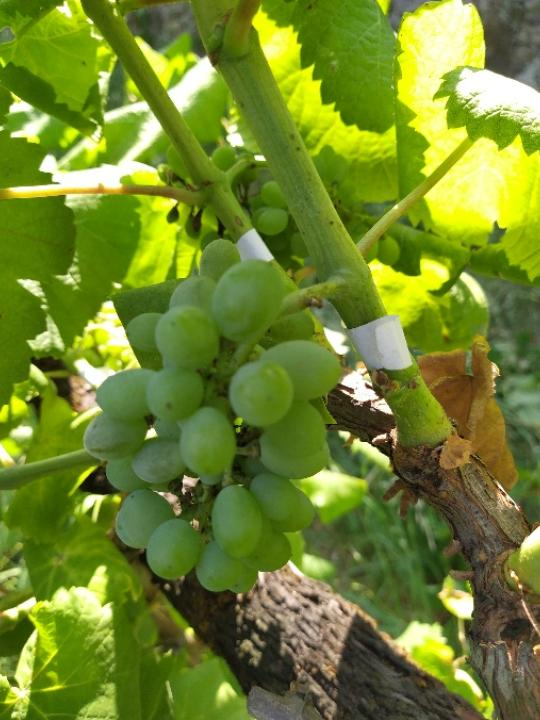grape: (80, 238, 348, 597)
